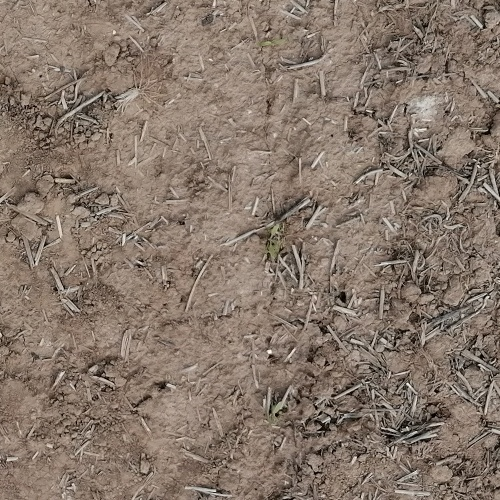beet: (267, 224, 279, 259), (259, 36, 285, 49)
